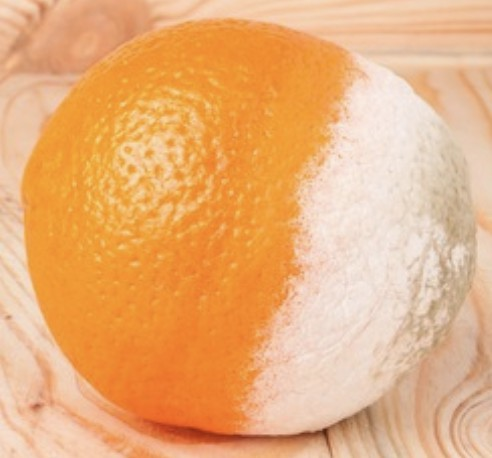rotten_orange: (23, 15, 482, 440)
